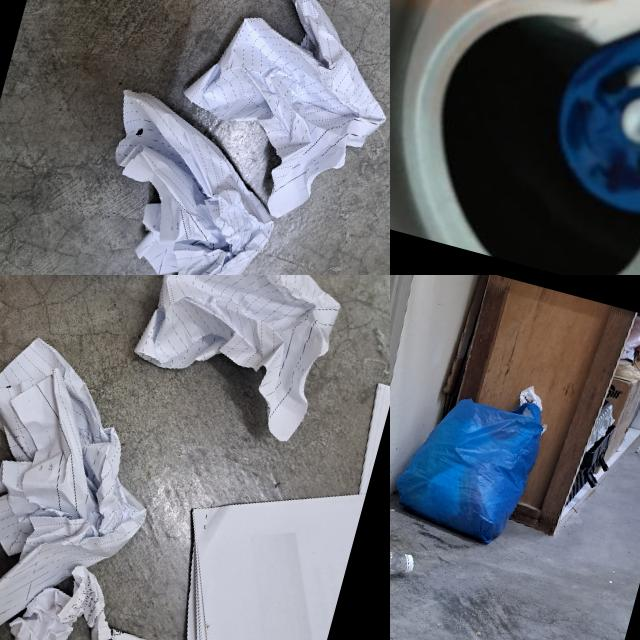aba de lata: (534, 0, 640, 260)
garrafa plástica: (390, 515, 422, 589)
lata: (390, 0, 640, 275)
papel: (143, 345, 390, 640), (0, 324, 219, 640), (158, 0, 390, 237), (55, 86, 298, 275), (125, 275, 363, 448)
sacola plástica: (390, 381, 549, 552)
tampa plástica: (396, 548, 419, 578)
